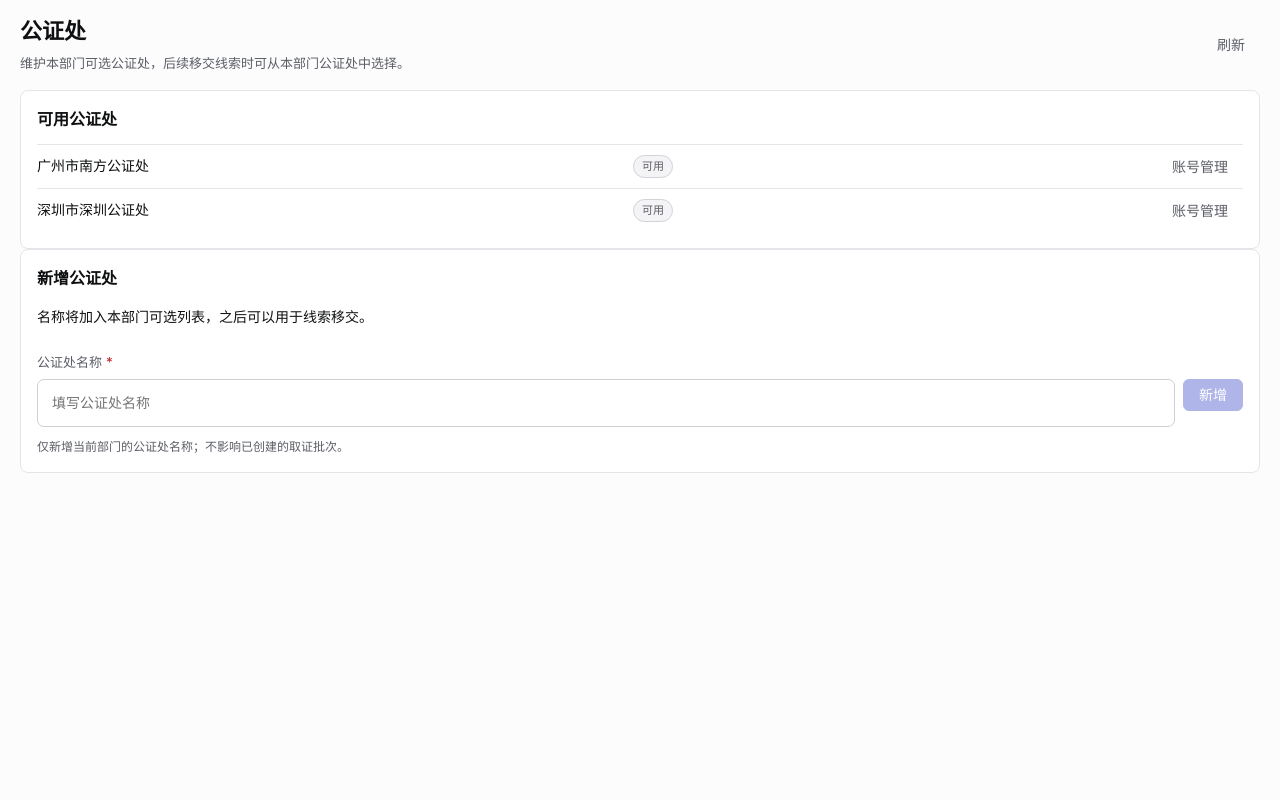
Test case: NotaryOfficesPage › lists current active offices and creates one only when allowed
Expected: the button with test id "create-notary-office" is disabled, [1183,379,1243,411]
Expected: the number of elements with class "required-mark" is 1, [106,354,113,370]
Type " 东莞市东莞公证处 " into the field with test id "new-notary-office-name" at (606, 403), box [37,379,1175,427]
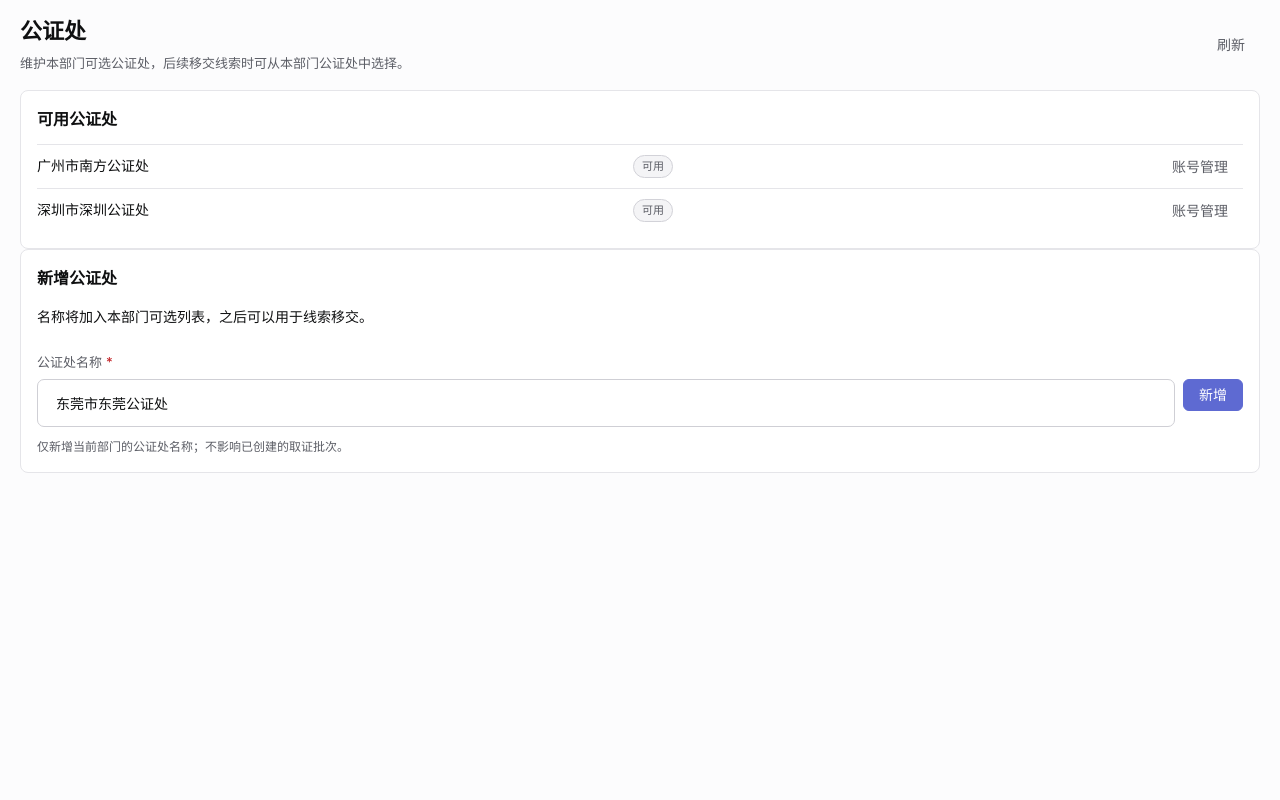
Click the button with test id "create-notary-office" at (1213, 395), box [1183,379,1243,411]
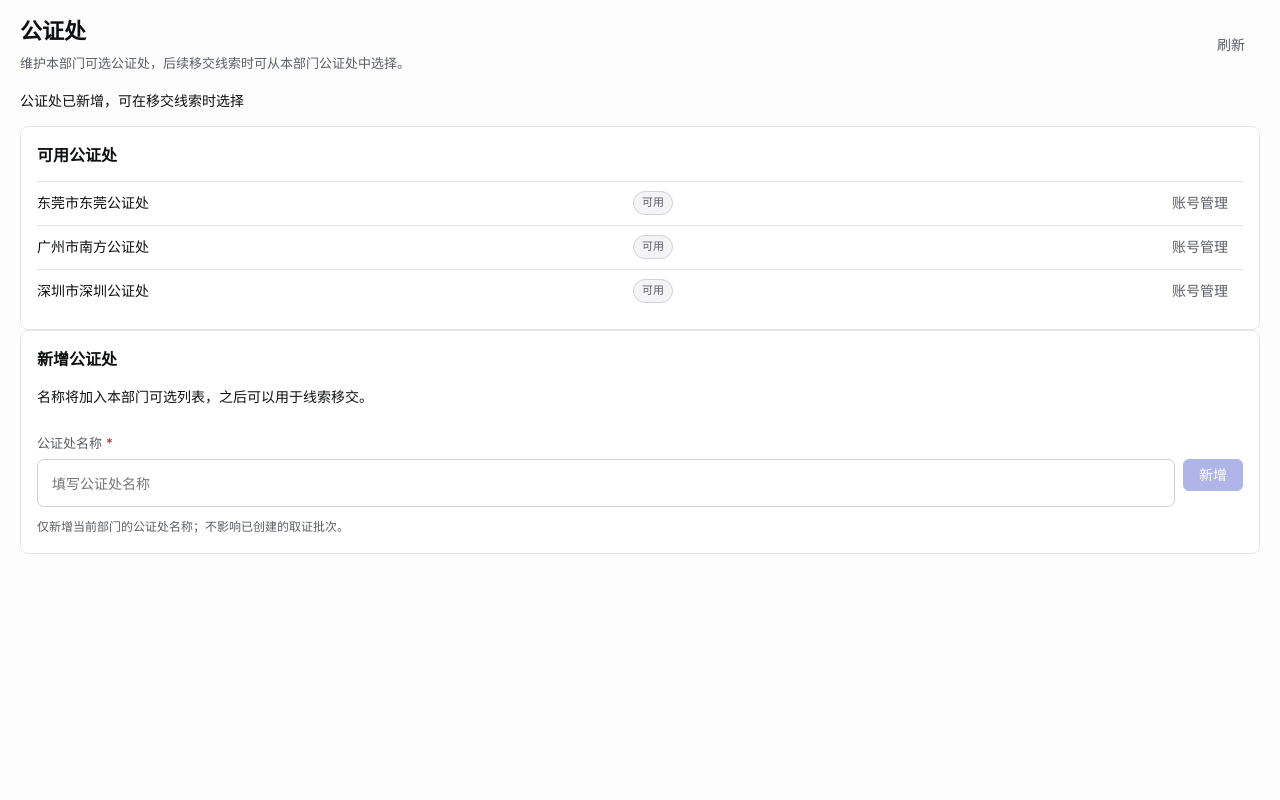
Now the text "公证处已新增" is shown, box [20,92,244,109]
Now the text "东莞市东莞公证处" is shown, box [37,192,149,214]
